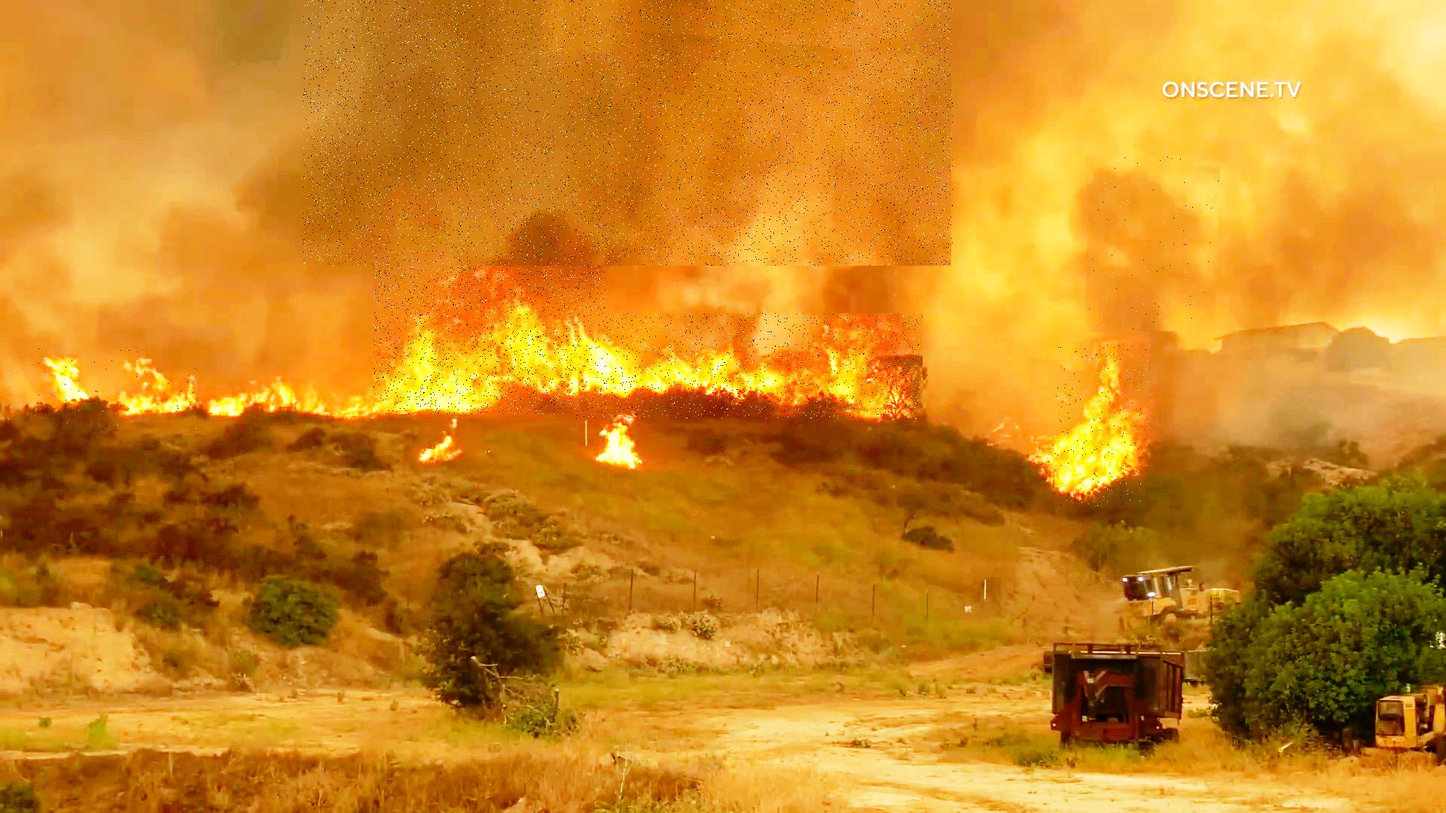fire: (373, 249, 606, 414), (576, 313, 923, 419), (1055, 345, 1152, 508), (36, 349, 197, 432)
smoke: (303, 0, 953, 266), (1087, 155, 1222, 333)
